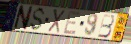9: (83, 13, 98, 38)
B: (97, 14, 115, 39)
E: (62, 11, 82, 36)
N: (12, 4, 35, 31)
S: (29, 7, 47, 32)
X: (47, 8, 66, 35)
